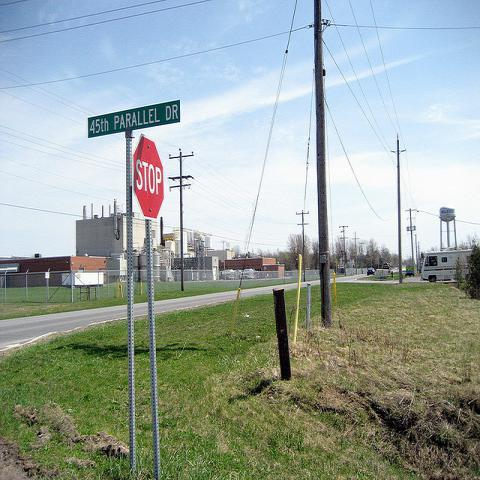car: (366, 268, 376, 276), (394, 267, 398, 270)
truck: (422, 249, 473, 282)
